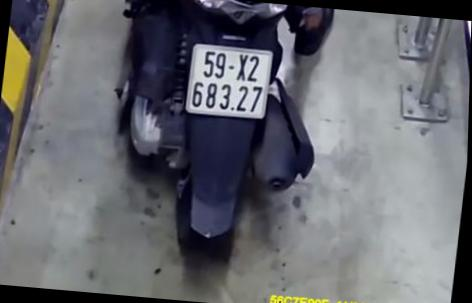LP: (184, 40, 277, 122)
